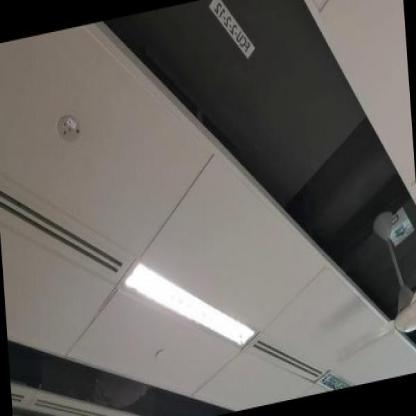light_on: (113, 222, 260, 382)
